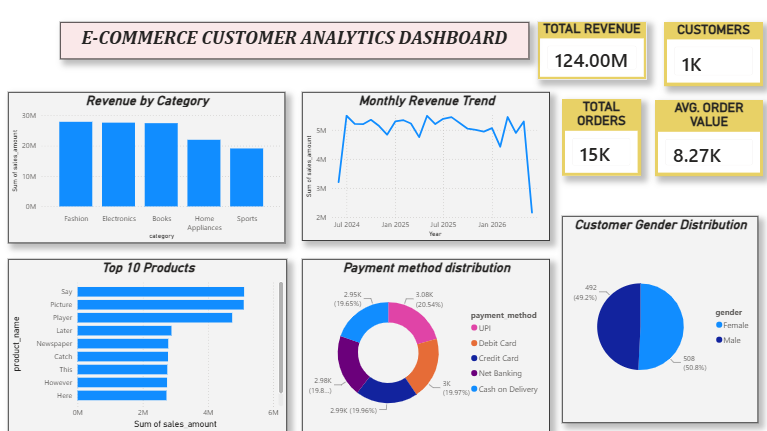

This screenshot's page, from the dashboard's own definition file:
{"tool":"powerbi","page":{"name":"Page 1","canvas":[1280,720],"ordinal":0},"visuals":[{"type":"cardVisual","title":"TOTAL REVENUE","fields":{"Data":["Sum(orders.sales_amount)"]},"box":[895,35,183.3,98.3],"z":0},{"type":"cardVisual","title":"CUSTOMERS","fields":{"Data":["CountNonNull(customers.customer_id)"]},"box":[1106.7,36.7,165,106.7],"z":1},{"type":"cardVisual","title":"TOTAL ORDERS","fields":{"Data":["CountNonNull(orders.order_id)"]},"box":[936.7,165,131.7,128.3],"z":2},{"type":"cardVisual","title":"AVG. ORDER VALUE","fields":{"Data":["Avg(orders.sales_amount)"]},"box":[1091.7,166.7,180,126.7],"z":3},{"type":"clusteredColumnChart","title":"Revenue by Category","fields":{"Y":["Sum(orders.sales_amount)"],"Category":["products.category"]},"box":[13.3,153.3,461.7,251.7],"z":4},{"type":"lineChart","title":"Monthly Revenue Trend","fields":{"Category":["orders.order_date.Variation.Date Hierarchy.Year","orders.order_date.Variation.Date Hierarchy.Month"],"Y":["Sum(orders.sales_amount)"]},"box":[503.3,153.3,413.3,248.3],"z":5},{"type":"clusteredBarChart","title":"Top 10 Products","fields":{"Y":["Sum(orders.sales_amount)"],"Category":["products.product_name"]},"box":[13.3,431.7,465,288.3],"z":6},{"type":"donutChart","title":"Payment method distribution","fields":{"Category":["payments.payment_method"],"Y":["CountNonNull(payments.payment_id)"]},"box":[503.3,431.7,413.3,288.3],"z":7},{"type":"pieChart","title":"Customer Gender Distribution","fields":{"Category":["customers.gender"],"Y":["CountNonNull(customers.customer_id)"]},"box":[936.7,360,326.7,345],"z":8},{"type":"textbox","box":[100,36.7,781.7,61.7],"z":9}]}

Visuals, with their boxes in screenshot pixels (x1, y1, x2, y2), scaled from the page's 1280x720 canvas onto the 767x431 screenshot:
"TOTAL REVENUE" cardVisual: 536 21 646 80
"CUSTOMERS" cardVisual: 663 22 762 86
"TOTAL ORDERS" cardVisual: 561 99 640 176
"AVG. ORDER VALUE" cardVisual: 654 100 762 176
"Revenue by Category" clusteredColumnChart: 8 92 285 242
"Monthly Revenue Trend" lineChart: 302 92 549 240
"Top 10 Products" clusteredBarChart: 8 258 287 430
"Payment method distribution" donutChart: 302 258 549 430
"Customer Gender Distribution" pieChart: 561 216 757 422
textbox: 60 22 528 59
